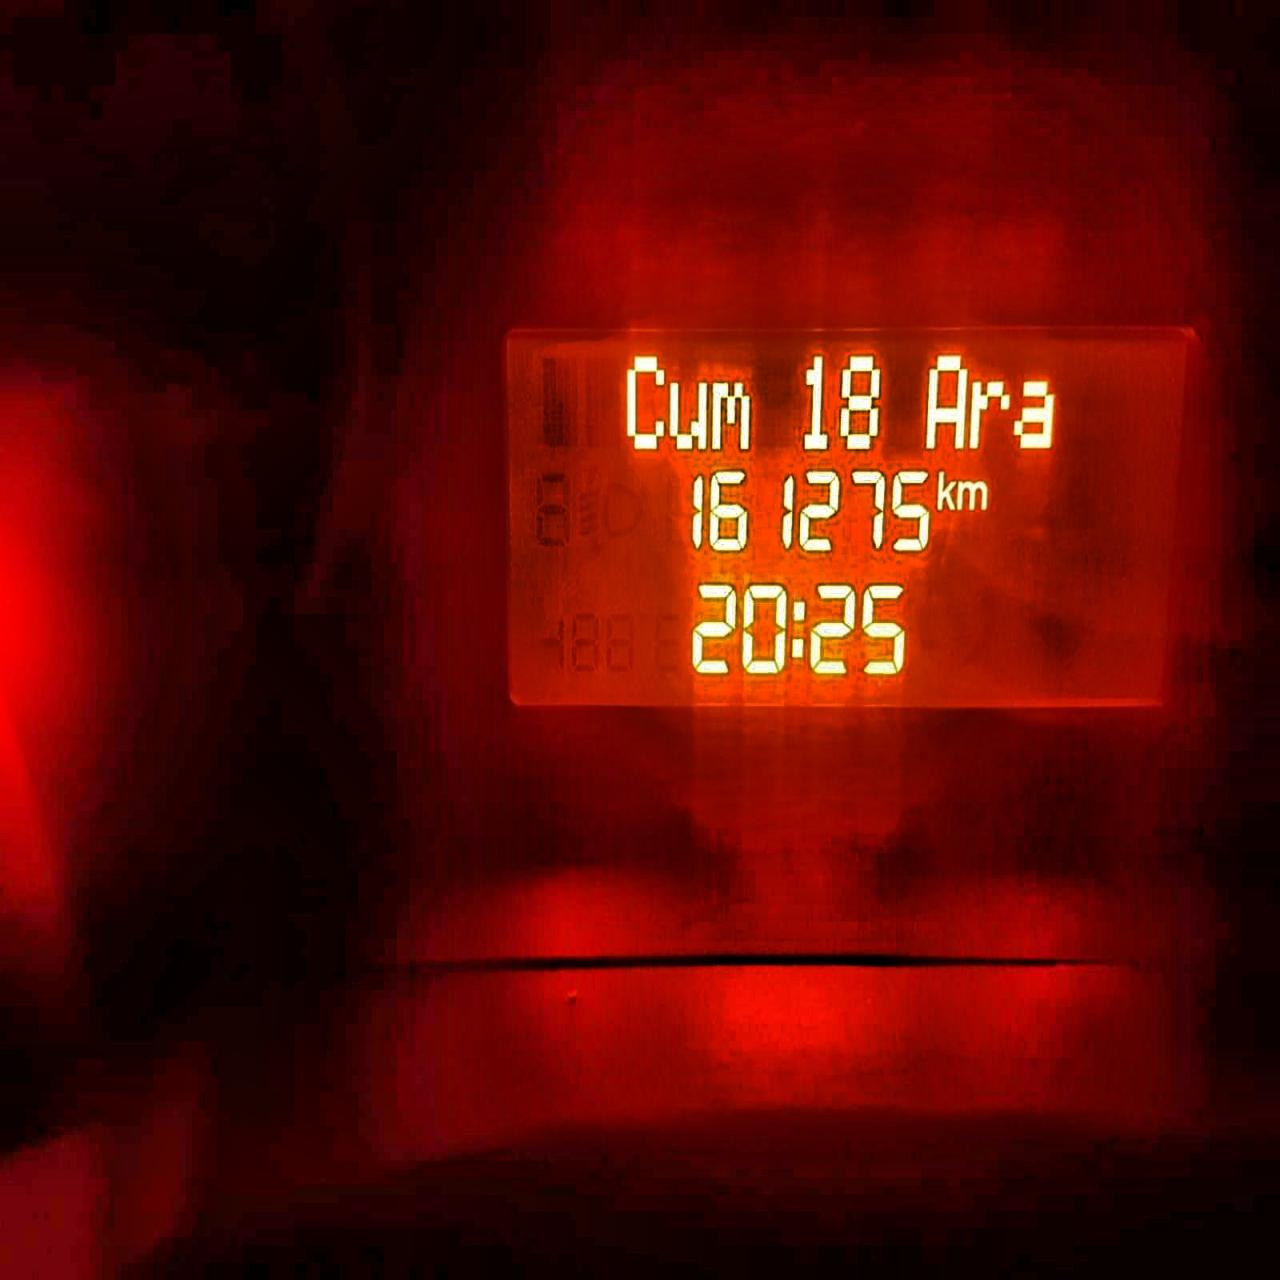0: (741, 579, 788, 678)
1: (797, 349, 831, 454), (685, 470, 707, 551), (777, 471, 797, 551)
2: (809, 578, 857, 679), (689, 578, 737, 676), (799, 467, 840, 553)
5: (862, 578, 908, 679), (888, 464, 930, 553)
6: (707, 467, 750, 554)
7: (846, 464, 887, 553)
8: (838, 349, 884, 454)
X: (621, 349, 667, 454), (924, 352, 967, 451), (1010, 375, 1057, 452), (667, 377, 710, 454), (709, 377, 753, 452), (967, 376, 1010, 449), (789, 595, 808, 661), (955, 478, 989, 511), (934, 467, 953, 515)
odometer: (492, 318, 1197, 722)
